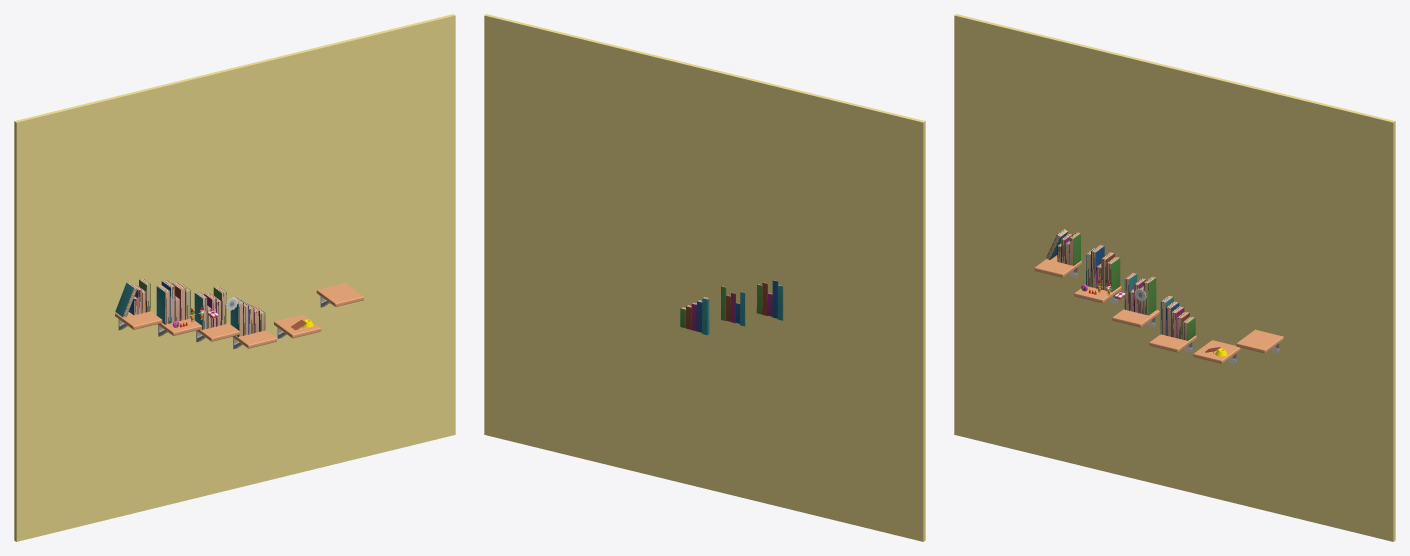
Rendered from BonanzaBooks.fbx.
3 views of the same model, side by side, from view 1: azimuth 30°, elevation 25°; view 2: azimuth 150°, elevation 25°; view 3: azimuth 330°, elevation 25° (orthographic).
Parts seen in each view (by area): view 1: Куб.014, Cube.002, Cube.001, Cube.009, Cube.011, Куб.012, Куб.007, Куб.005, Куб.006, Куб.001; view 2: Куб.014, Cube.002, Cube.011, Cube.001; view 3: Куб.014, Cube.002, Cube.011, Cube.001, Cube.009, Куб.012, Куб.007, Куб.005, Куб.001, Куб.006.
Part boxes in pixels (<box>): Куб.014: <box>14,14,455,541</box>; Cube.002: <box>156,280,190,324</box>; Cube.001: <box>194,286,226,329</box>; Cube.009: <box>115,278,150,317</box>; Cube.011: <box>230,297,265,336</box>; Куб.012: <box>316,283,363,307</box>; Куб.007: <box>274,314,321,338</box>; Куб.005: <box>115,311,162,330</box>; Куб.006: <box>232,330,276,349</box>; Куб.001: <box>196,321,239,342</box>; Куб.014: <box>484,14,925,541</box>; Cube.002: <box>756,280,783,320</box>; Cube.011: <box>680,297,709,335</box>; Cube.001: <box>721,286,745,326</box>; Куб.014: <box>954,14,1395,541</box>; Cube.002: <box>1086,245,1120,291</box>; Cube.011: <box>1160,295,1195,340</box>; Cube.001: <box>1124,272,1156,315</box>; Cube.009: <box>1046,229,1080,265</box>; Куб.012: <box>1236,329,1283,353</box>; Куб.007: <box>1193,340,1240,364</box>; Куб.005: <box>1034,255,1081,278</box>; Куб.001: <box>1112,309,1159,328</box>; Куб.006: <box>1149,334,1196,353</box>.
Bounding box in the file's own units: 24224 × 22106 × 2163.
Materials: 104 (1 with a texture image).
